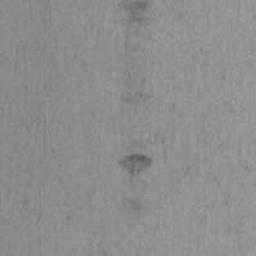Oil spot: (118, 154, 152, 178), (119, 0, 150, 24), (121, 92, 153, 103), (122, 197, 142, 211)
